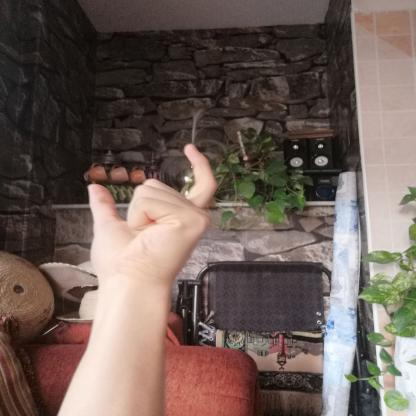NOON: (66, 135, 240, 299)
